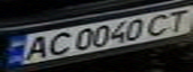0: (124, 16, 151, 42), (90, 23, 115, 48), (72, 26, 96, 52)
4: (109, 19, 133, 45)
A: (15, 34, 54, 62)
C: (142, 11, 178, 37), (39, 29, 72, 57)
T: (160, 7, 193, 33)
